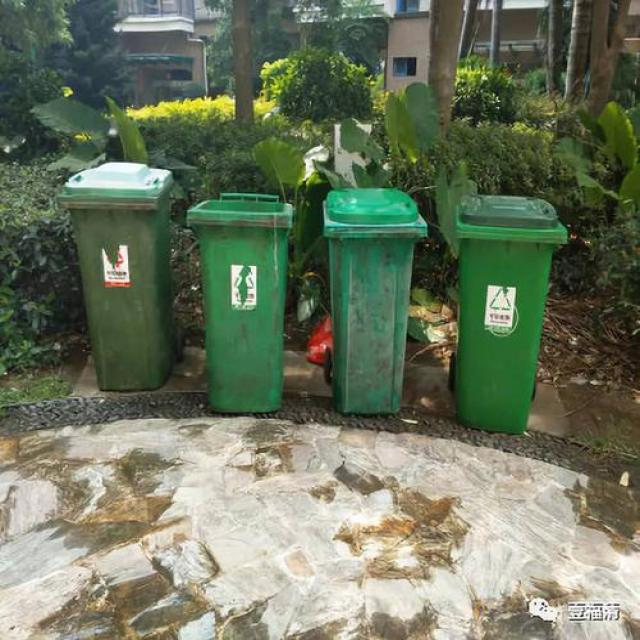garbage: (306, 315, 331, 363)
garbage_bin: (452, 193, 568, 434), (55, 160, 174, 390), (322, 186, 428, 413), (186, 192, 294, 410)
